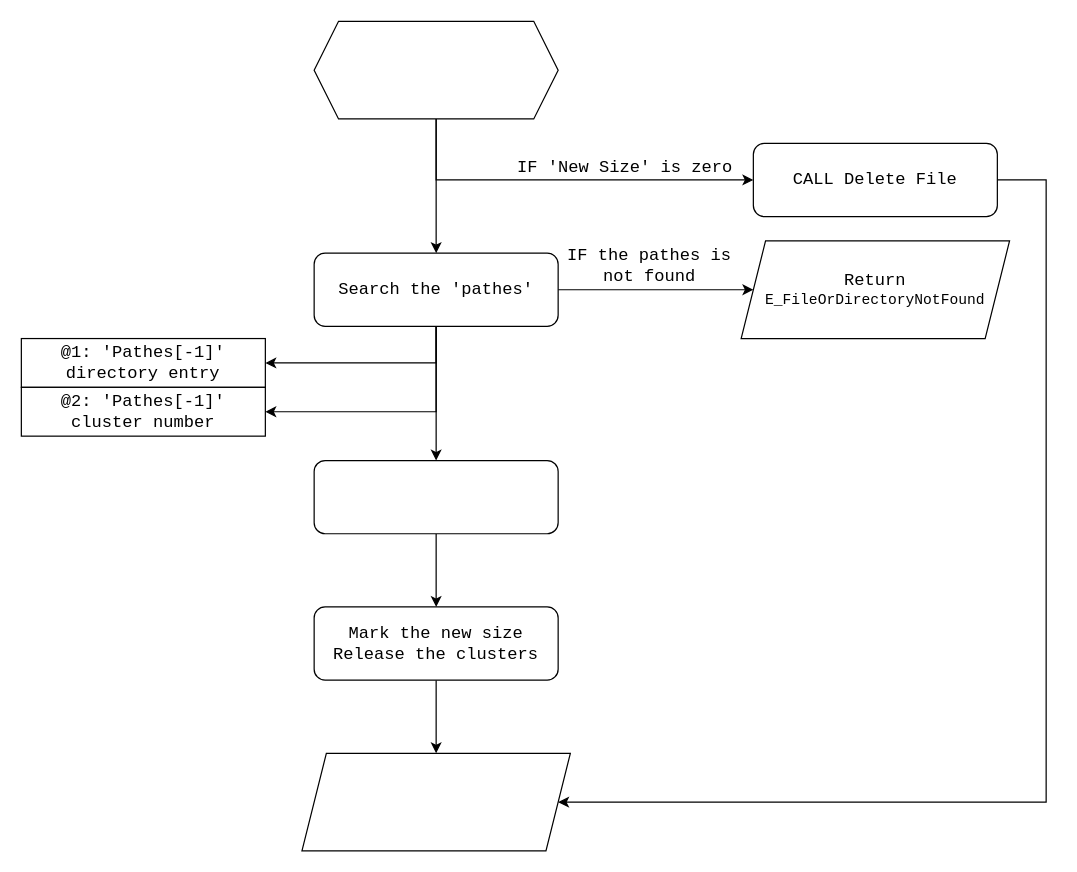
Some shapes in this 1077 by 872 pixel diagram are drawn without their labels. Here are the shapes that lost their labels. From the top down, the box of each, then its label:
(313, 20, 558, 119): Truncate File #1: Pathes #2: New Size
(313, 459, 558, 534): Calculate the clusters
(301, 752, 570, 851): Return as success
